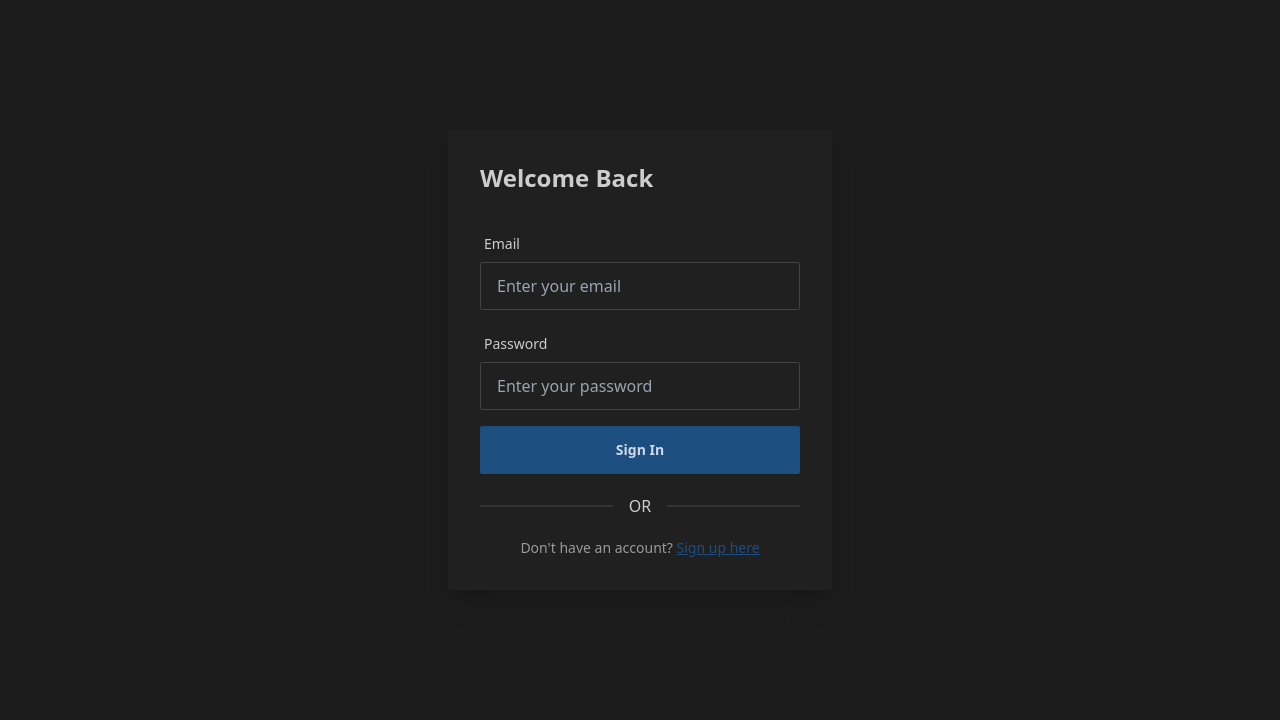
Scenario: Login Page › should show error message for invalid credentials
Type "wrong@example.com" into the field with placeholder "Enter your email".
click(640, 286); type("wrong@example.com")  # box [480,262,800,310]
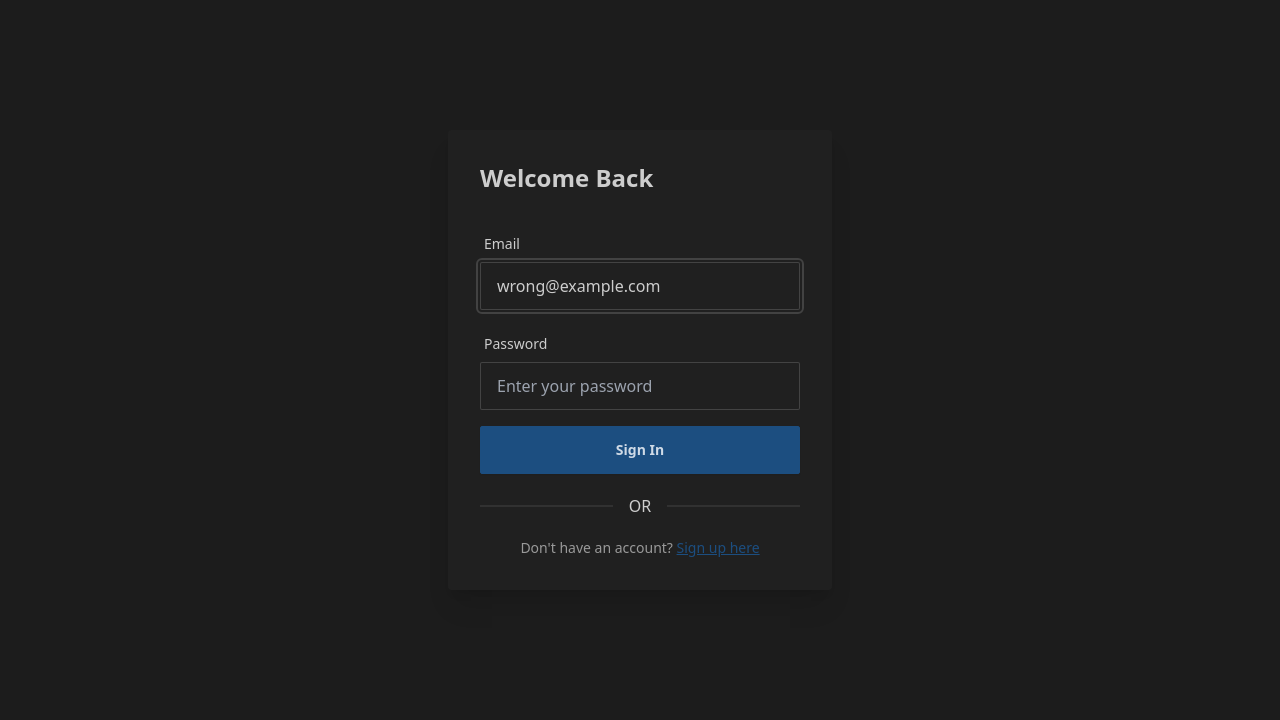
Type "wrongpassword" into the password field with placeholder "Enter your password".
click(640, 386); type("wrongpassword")  # box [480,362,800,410]
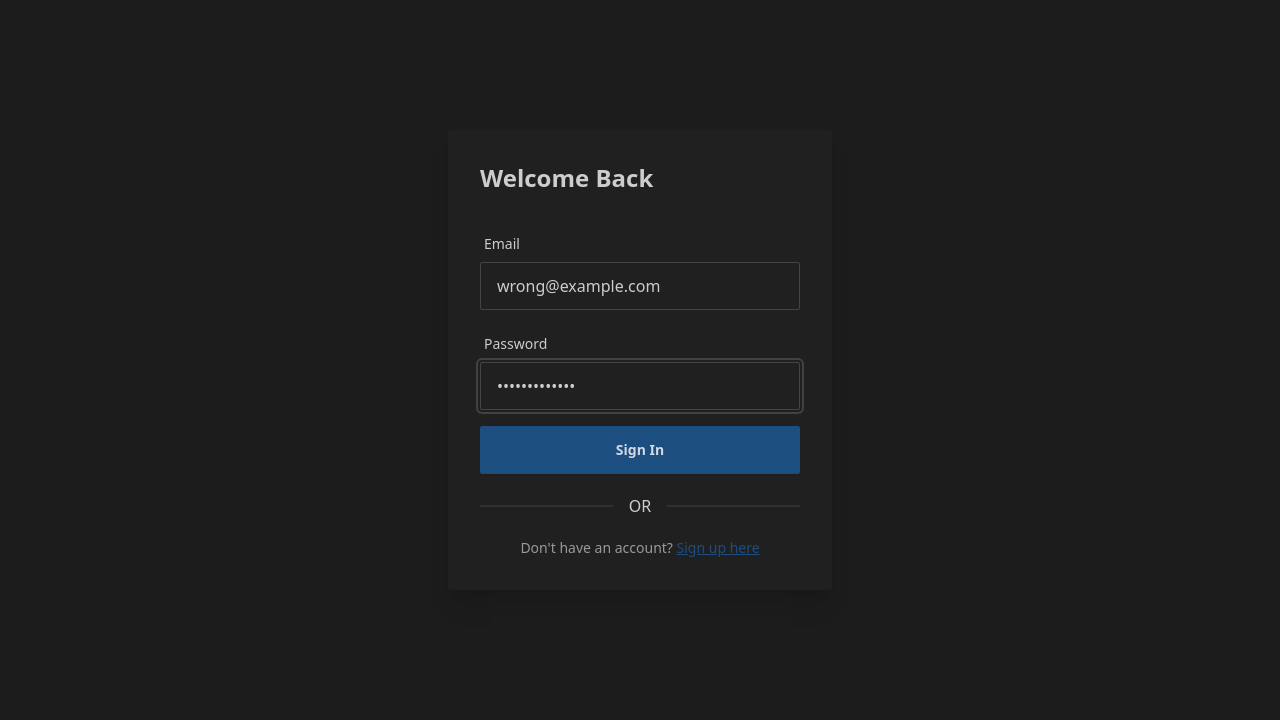
Click the submit button.
click(640, 450)  # box [480,426,800,474]
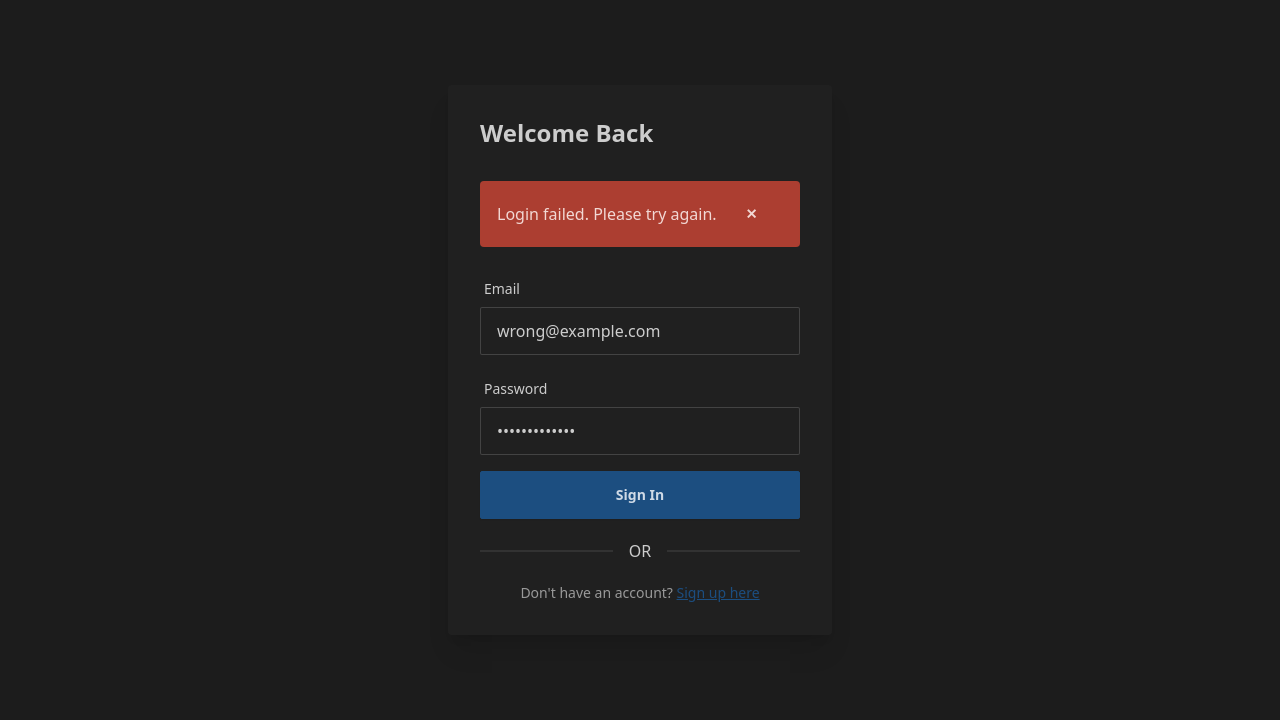
Expected: the text "Login failed" is shown, [497,203,717,225]
